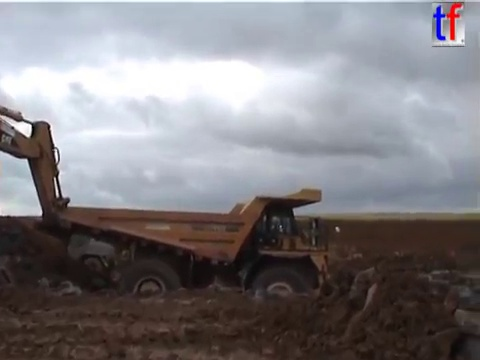excavator: (1, 100, 93, 273)
truck: (52, 186, 344, 323), (32, 207, 207, 278)
